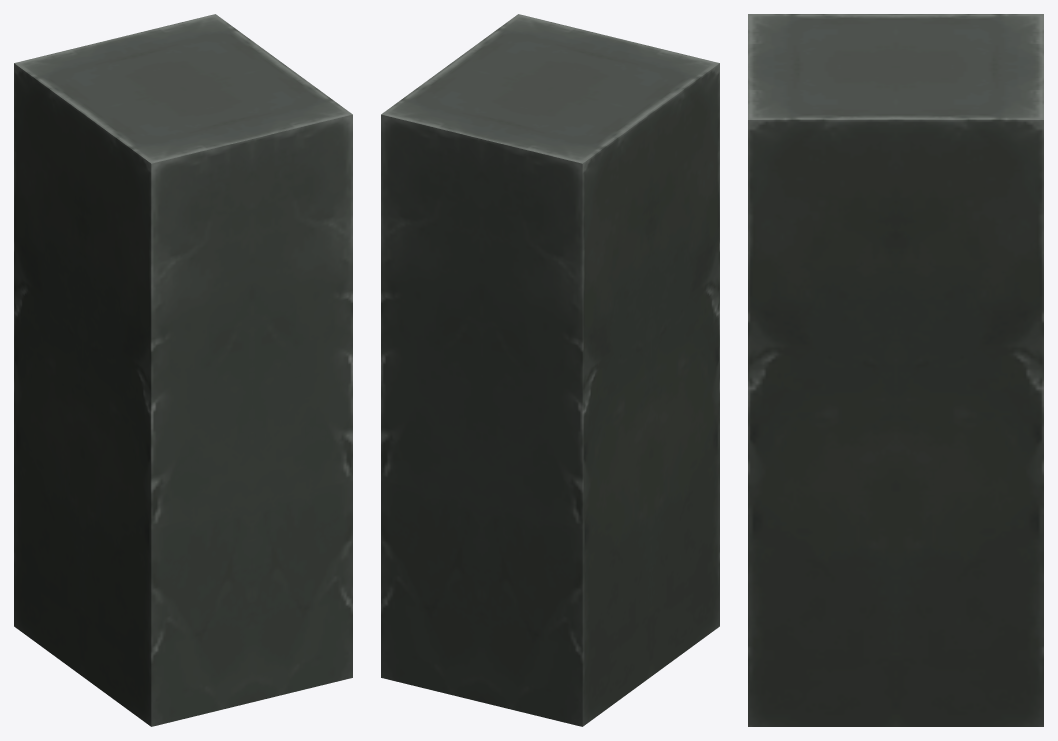
The model's file is yw_newshanlin_zhuzi_001.FBX.
3 renders of one model, left to right at view 1: azimuth 30°, elevation 25°; view 2: azimuth 150°, elevation 25°; view 3: azimuth 270°, elevation 25°, orthographic. The views are drawn at different scales.
Parts seen in each view (by area): view 1: yw_newshanlin_zhuzi_001; view 2: yw_newshanlin_zhuzi_001; view 3: yw_newshanlin_zhuzi_001.
Part boxes in pixels (bbox=[...]): yw_newshanlin_zhuzi_001: bbox=[14, 14, 352, 726]; yw_newshanlin_zhuzi_001: bbox=[381, 14, 719, 726]; yw_newshanlin_zhuzi_001: bbox=[748, 14, 1043, 726].
Bounding box in the file's own units: 51.91 × 139 × 61.27.
